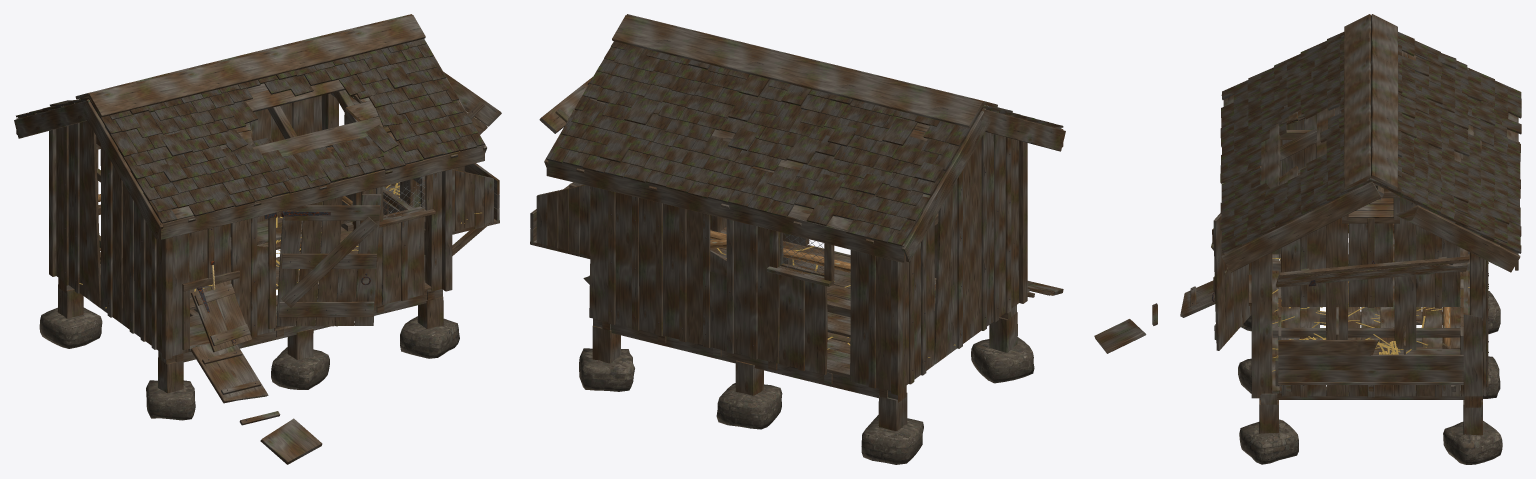
Rendered from gallinero_roto.glb.
3 renders of one model, left to right at view 1: azimuth 30°, elevation 25°; view 2: azimuth 150°, elevation 25°; view 3: azimuth 270°, elevation 25°, orthographic. The views are drawn at different scales.
Parts seen in each view (by area): view 1: Gallinero, Tejado, Puerta, Trampilla, TapaNidales; view 2: Gallinero, Tejado, TapaNidales; view 3: Tejado, Gallinero, TapaNidales, Puerta.
Boxes of the visible parts, <box> form: Gallinero: <box>39,93,499,464</box>; Tejado: <box>14,14,486,239</box>; Puerta: <box>276,194,381,326</box>; Trampilla: <box>191,280,252,352</box>; TapaNidales: <box>353,71,501,134</box>; Gallinero: <box>530,131,1063,464</box>; Tejado: <box>544,14,1065,262</box>; TapaNidales: <box>539,77,592,133</box>; Tejado: <box>1220,14,1521,272</box>; Gallinero: <box>1094,114,1502,464</box>; TapaNidales: <box>1276,256,1469,287</box>; Puerta: <box>1211,213,1251,350</box>.
Size of the model in its own units: 2.65 by 2 by 2.6.
Materials: 9 (9 with a texture image).
